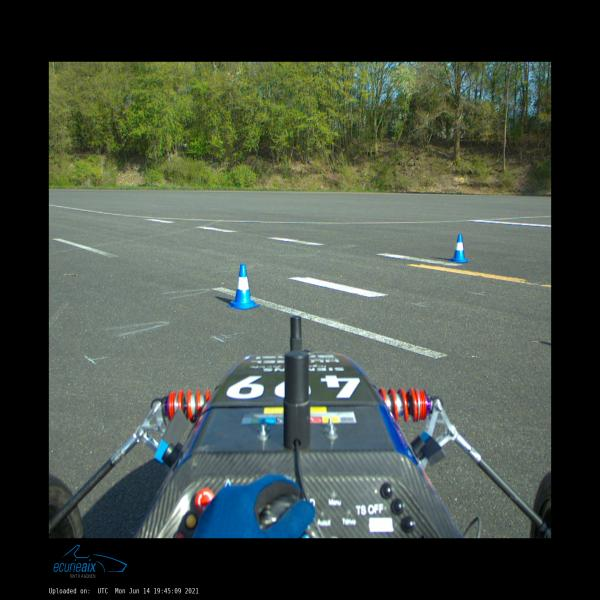blue_cone: (226, 264, 259, 310), (449, 234, 469, 262)
